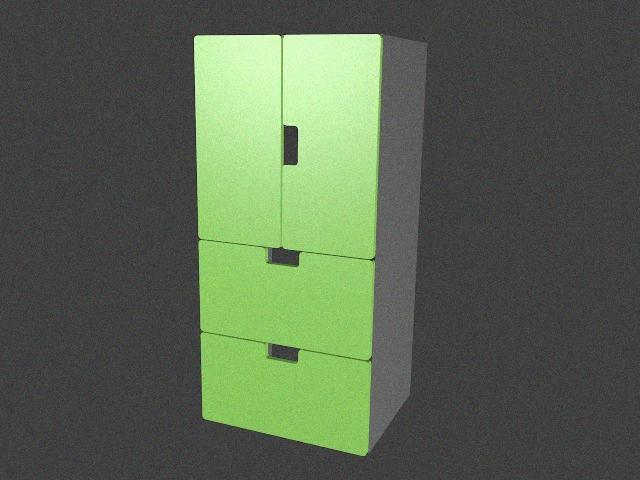cabinet_door: (282, 34, 378, 255), (195, 35, 282, 244), (199, 250, 373, 346), (200, 346, 370, 438)
handle: (281, 125, 299, 167), (266, 249, 300, 266), (266, 345, 300, 361)
